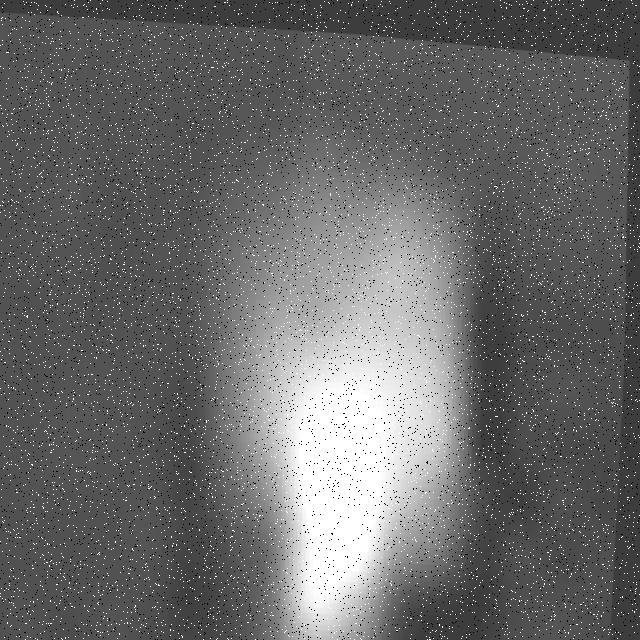person: (177, 131, 512, 640)
